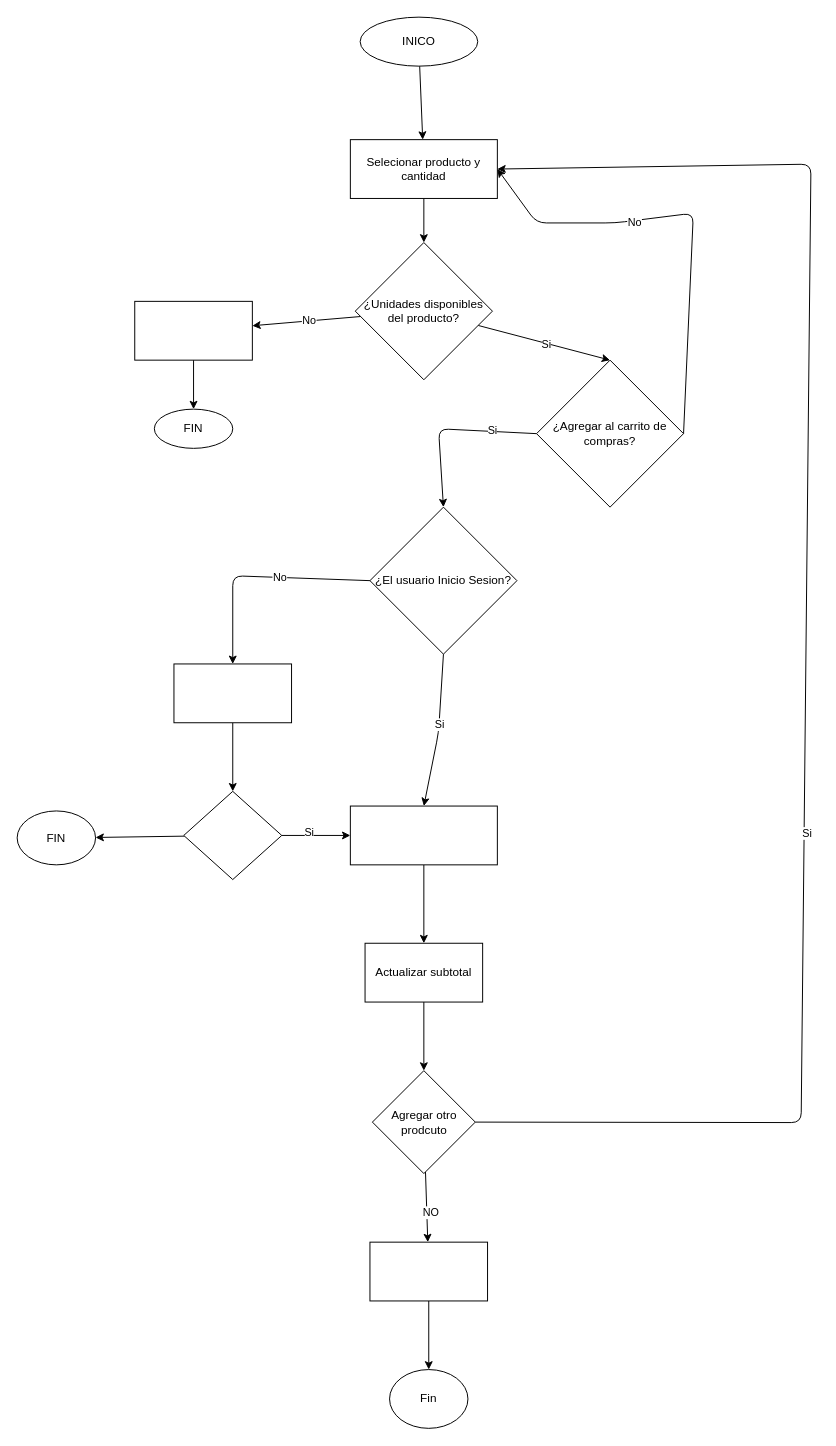
This 836x1446 diagram has some shape labels left out. Each missing label, with the box of its shape:
Agregar el producto al carrito de comrpas: (349, 805, 497, 865)
Ir al resumento del carrito: (369, 1241, 488, 1301)
Producto Agotado: (134, 300, 252, 360)
Solicitar Regsitrarse o iniciar Sesion: (173, 663, 292, 723)
¿Login exitoso?: (183, 790, 282, 880)
